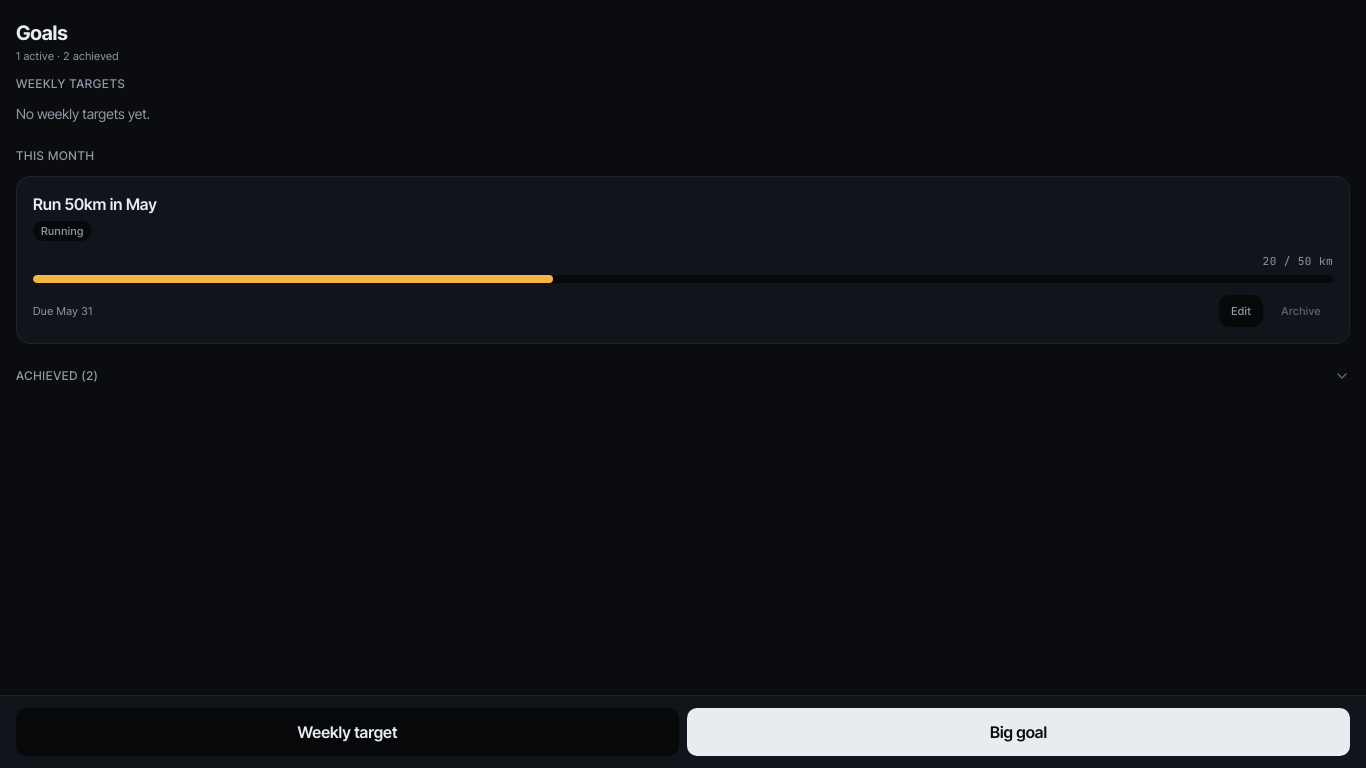
Test: GoalsScreen — Achieved section › expanded Achieved section shows only achieved goals (status === "achieved")
Click the button "Achieved (2)": (51, 376) [16,368,1350,384]
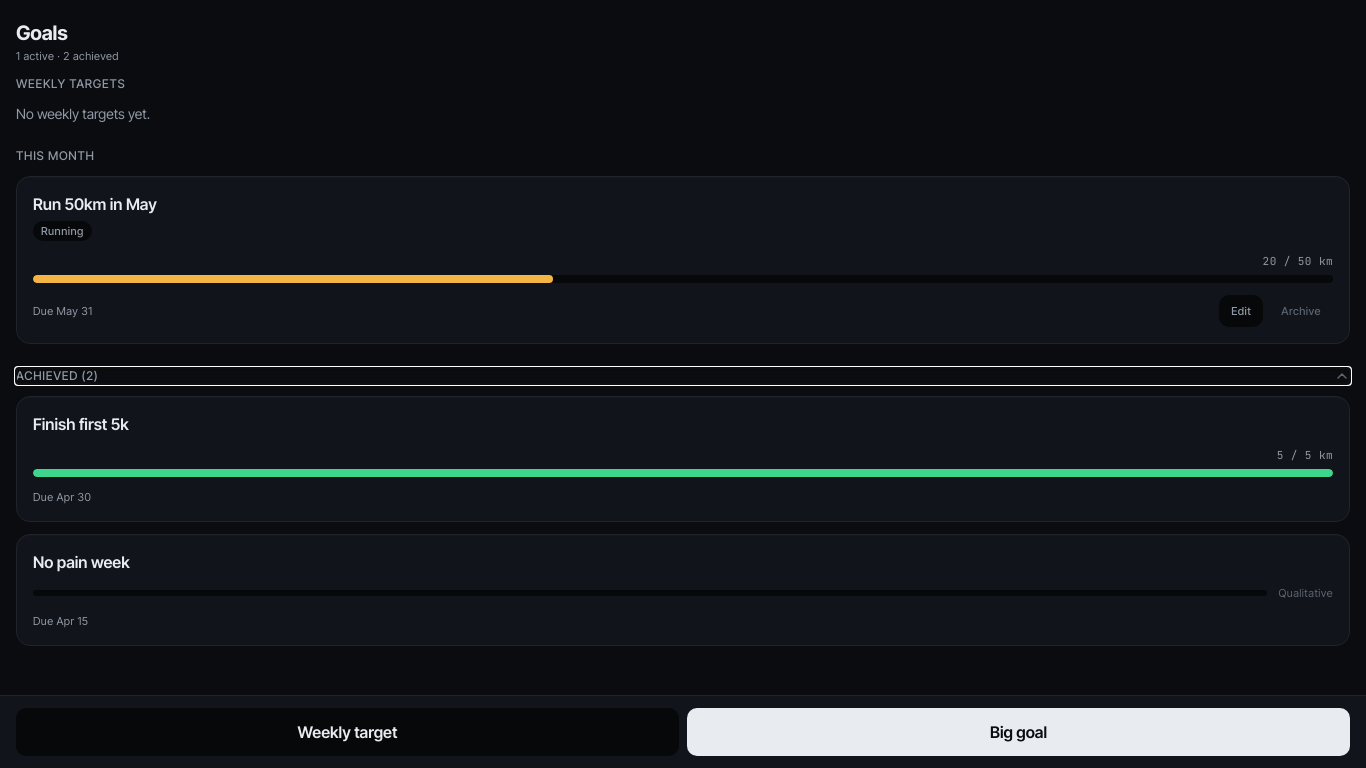
Expected: the text "Run 50km in May" is shown once, [33,194,157,214]
Expected: the text "Finish first 5k" is shown, [33,414,129,434]
Expected: the text "No pain week" is shown, [33,552,130,572]
